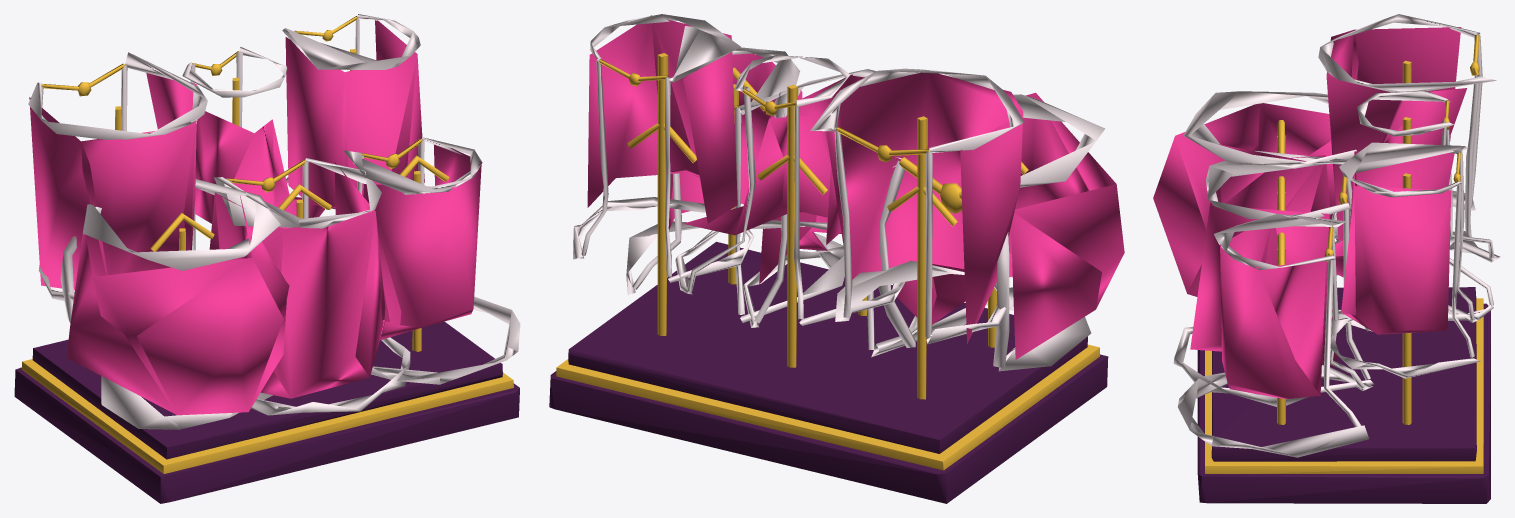
Rendered from chess.set.royal-capes.lod1.glb.
The picture shows the model from 3 angles, left to right: view 1: azimuth 30°, elevation 25°; view 2: azimuth 150°, elevation 25°; view 3: azimuth 270°, elevation 25°; orthographic projection. The views are drawn at different scales.
Visible parts, largest first — view 1: clasp.003; view 2: clasp.003; view 3: clasp.003.
Part boxes in pixels (x1,y1,x2,y2): clasp.003: (14, 14, 520, 503); clasp.003: (549, 14, 1124, 503); clasp.003: (1153, 14, 1500, 503).
Size of the model in its own units: 0.7012 by 0.4742 by 0.483.
